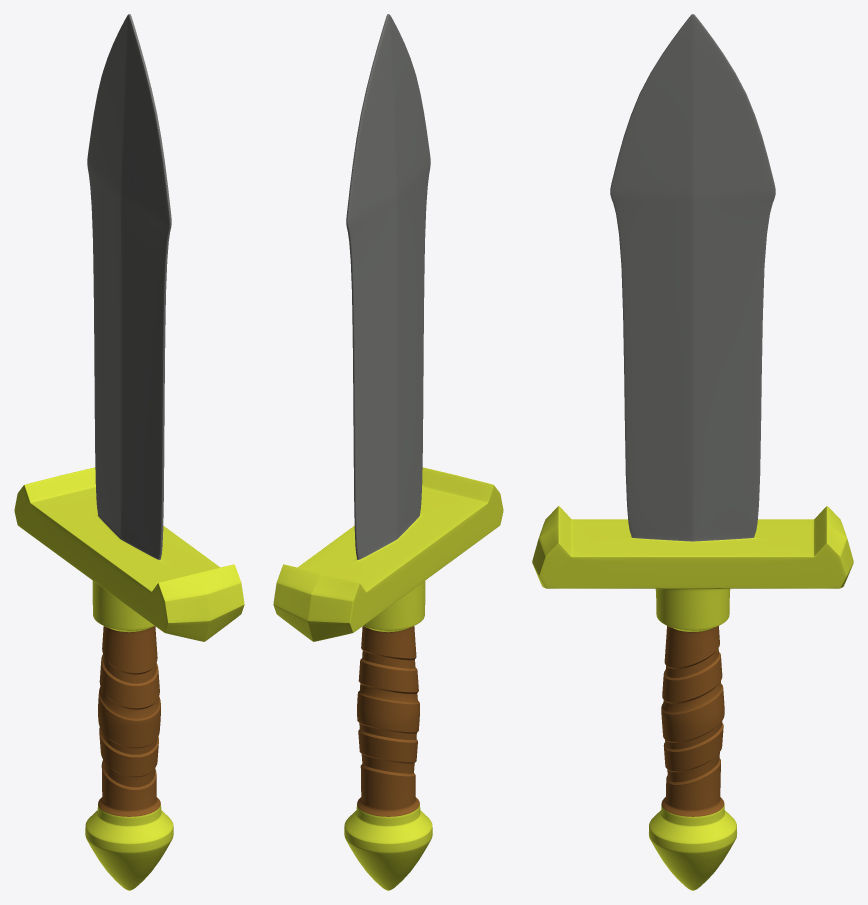
The model's file is sword_v1.fbx.
3 views of the same model, side by side, from view 1: azimuth 30°, elevation 25°; view 2: azimuth 150°, elevation 25°; view 3: azimuth 270°, elevation 25° (orthographic).
Visible parts, largest first — view 1: polySurface1; view 2: polySurface1; view 3: polySurface1.
Boxes of the visible parts, x1,y1,x2,y2 form: polySurface1: [14, 14, 244, 890]; polySurface1: [273, 14, 503, 890]; polySurface1: [532, 14, 853, 890].
Size of the model in its own units: 4.72 by 50.98 by 16.95.
